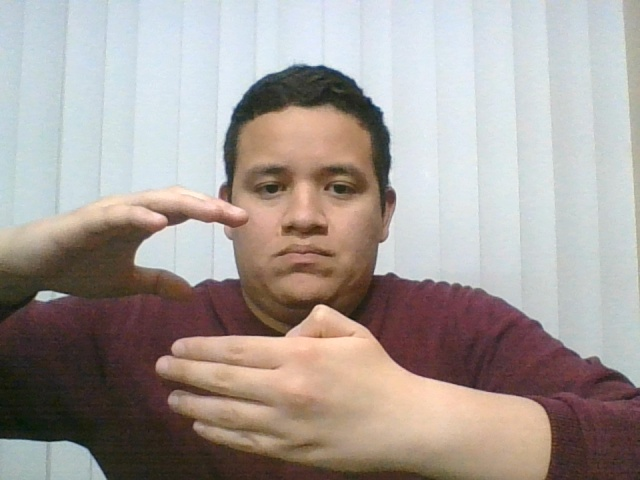To Study: (5, 170, 477, 476)
